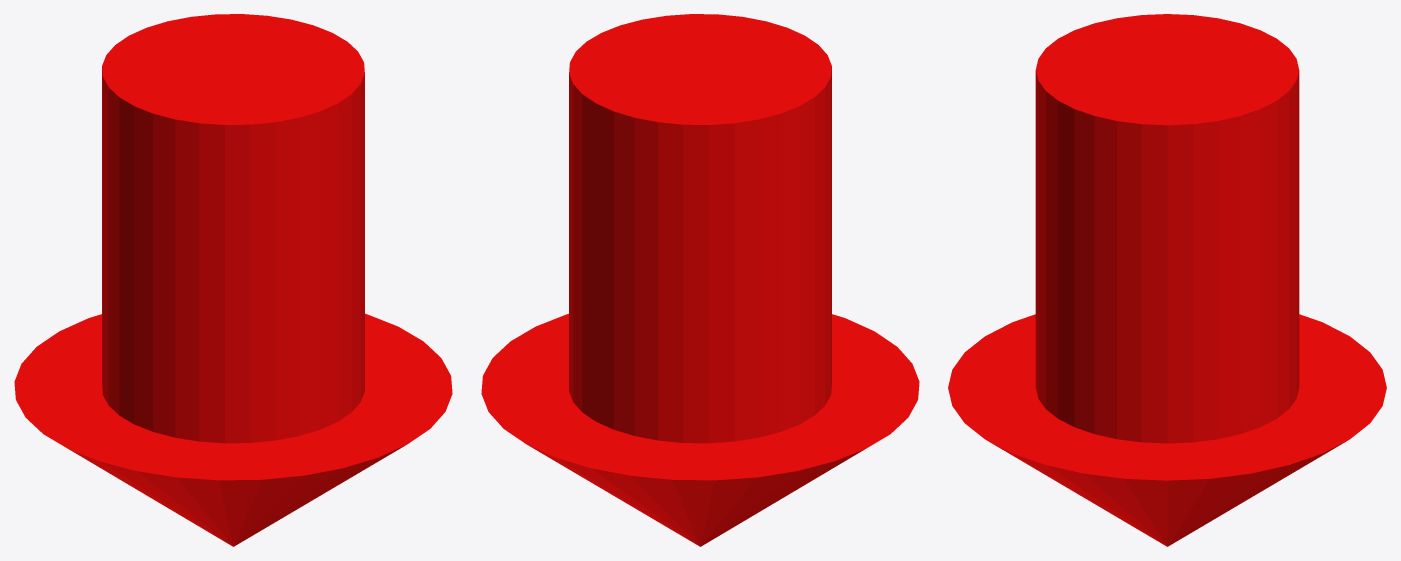
File: BigRedArrow.fbx
3 renders of one model, left to right at view 1: azimuth 30°, elevation 25°; view 2: azimuth 150°, elevation 25°; view 3: azimuth 270°, elevation 25°, orthographic.
Parts seen in each view (by area): view 1: Cone; view 2: Cone; view 3: Cone.
Part boxes in pixels (x1,y1,x2,y2): Cone: [14, 14, 452, 546]; Cone: [481, 14, 919, 546]; Cone: [948, 14, 1386, 546].
Bounding box in the file's own units: 500 × 600 × 500.
